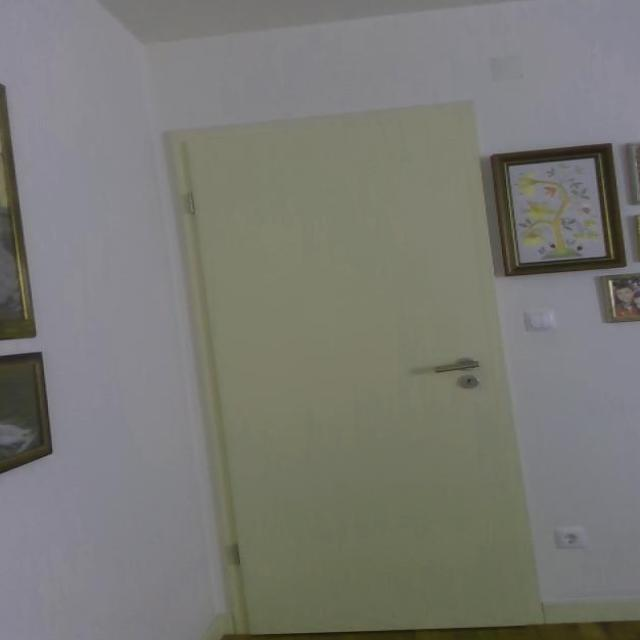door: (167, 99, 545, 635)
